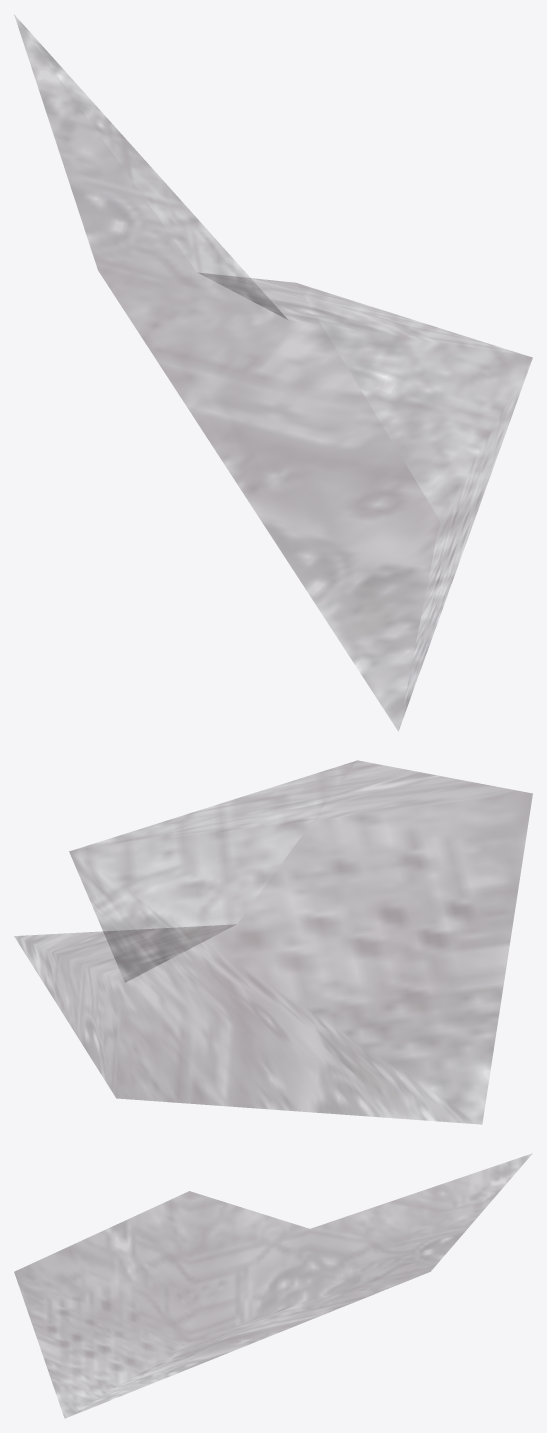
3 views of the same model, one above another, from view 1: azimuth 30°, elevation 25°; view 2: azimuth 150°, elevation 25°; view 3: azimuth 270°, elevation 25° (orthographic). The views are drawn at different scales.
Visible parts, largest first — view 1: layer_00_sect_01U; view 2: layer_00_sect_01U; view 3: layer_00_sect_01U.
Part boxes in pixels (x1,y1,x2,y2): layer_00_sect_01U: (14,15,532,730); layer_00_sect_01U: (14,760,532,1124); layer_00_sect_01U: (14,1154,531,1417).
Bounding box in the file's own units: 12.54 × 18.05 × 31.96.
Materials: 1 (1 with a texture image).
